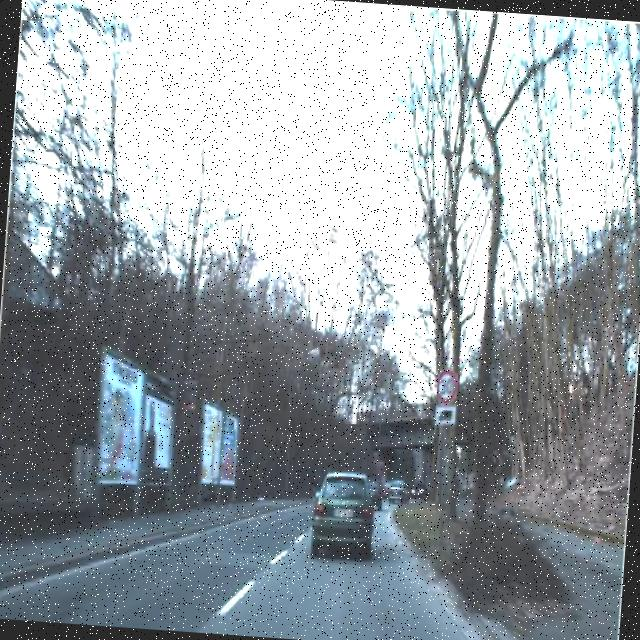Ograniczenie predkosci do 30: (432, 366, 461, 406)
